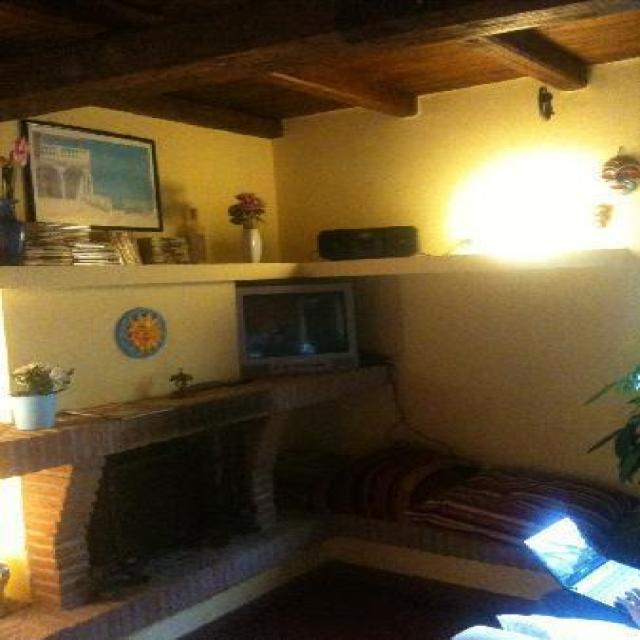other: (433, 144, 613, 279)
